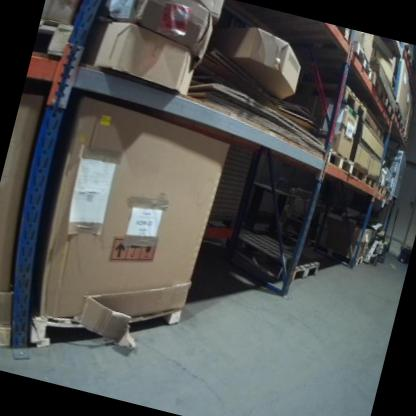pallet: (24, 273, 185, 385), (225, 225, 325, 289), (32, 16, 76, 63), (342, 40, 380, 82), (321, 247, 364, 273), (323, 148, 356, 175), (365, 72, 391, 104), (0, 324, 15, 355), (379, 96, 398, 120), (397, 42, 416, 66), (346, 163, 368, 183), (390, 103, 407, 127), (362, 176, 378, 189), (374, 184, 386, 198)
pallet_truck: (361, 195, 396, 268), (378, 204, 404, 261)
stillage: (203, 137, 262, 245)
